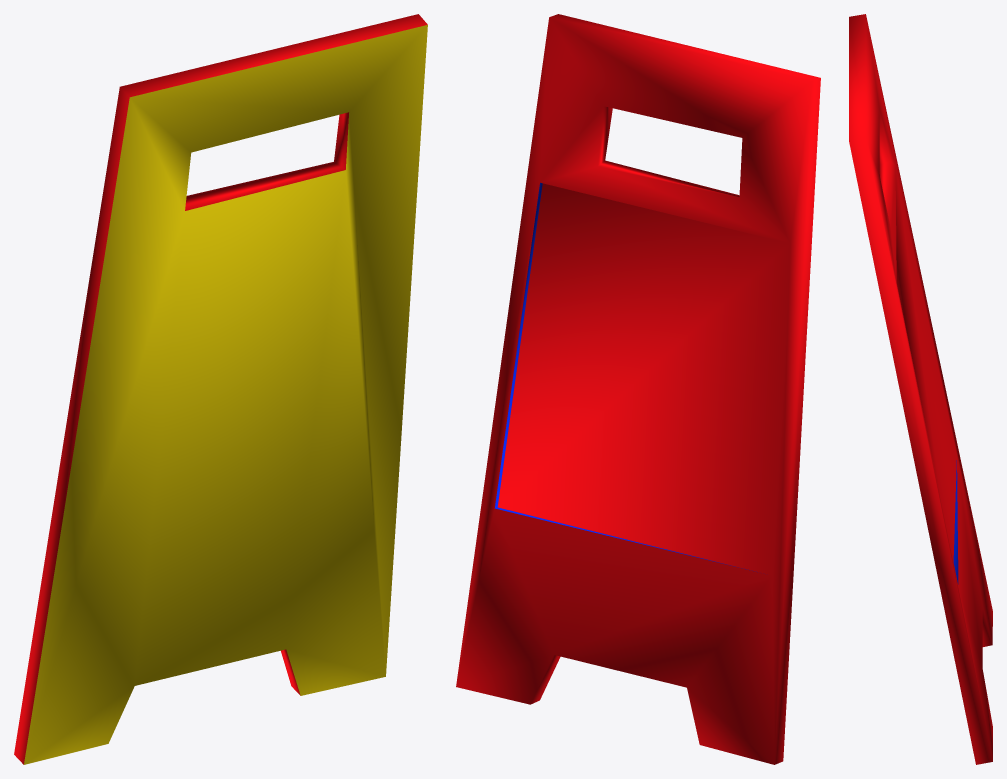
Rendered from h_wet_floor_sign.FBX.
The picture shows the model from 3 angles, left to right: view 1: azimuth 30°, elevation 25°; view 2: azimuth 150°, elevation 25°; view 3: azimuth 270°, elevation 25°; orthographic projection. The views are drawn at different scales.
Visible parts, largest first — view 1: WETFloor004; view 2: WETFloor004; view 3: WETFloor004.
Part boxes in pixels (x1,y1,x2,y2): WETFloor004: [14, 14, 427, 764]; WETFloor004: [456, 14, 820, 764]; WETFloor004: [849, 14, 992, 764].
Bounding box in the file's own units: 39.18 × 74.22 × 15.79.
